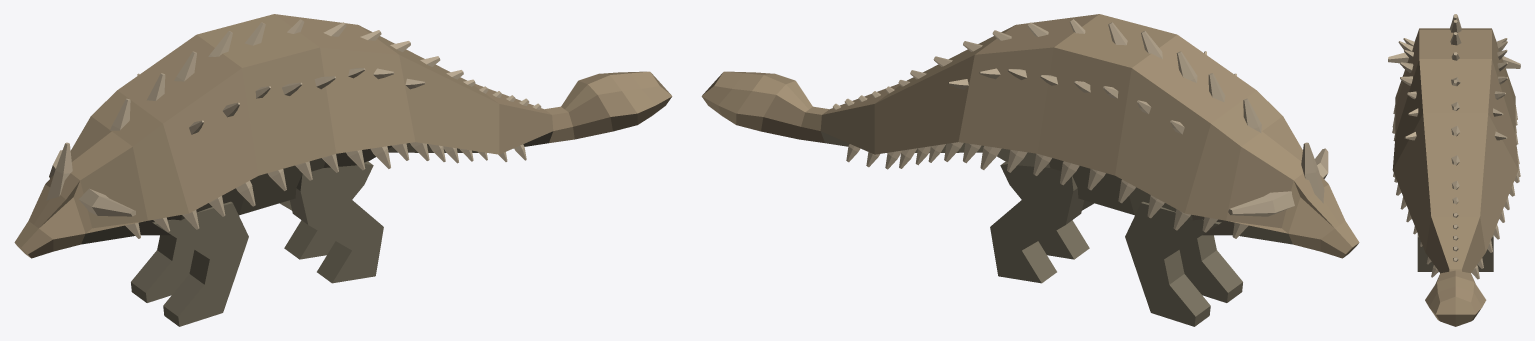
File: anklosaurus_pref.fbx
The picture shows the model from 3 angles, left to right: view 1: azimuth 30°, elevation 25°; view 2: azimuth 150°, elevation 25°; view 3: azimuth 270°, elevation 25°; orthographic projection. The views are drawn at different scales.
Visible parts, largest first — view 1: Cube.002; view 2: Cube.002; view 3: Cube.002.
Boxes of the visible parts, x1=… form: Cube.002: x1=14, y1=14, x2=672, y2=326; Cube.002: x1=701, y1=14, x2=1359, y2=326; Cube.002: x1=1388, y1=14, x2=1520, y2=326.
Bounding box in the file's own units: 1345 × 522 × 303.
